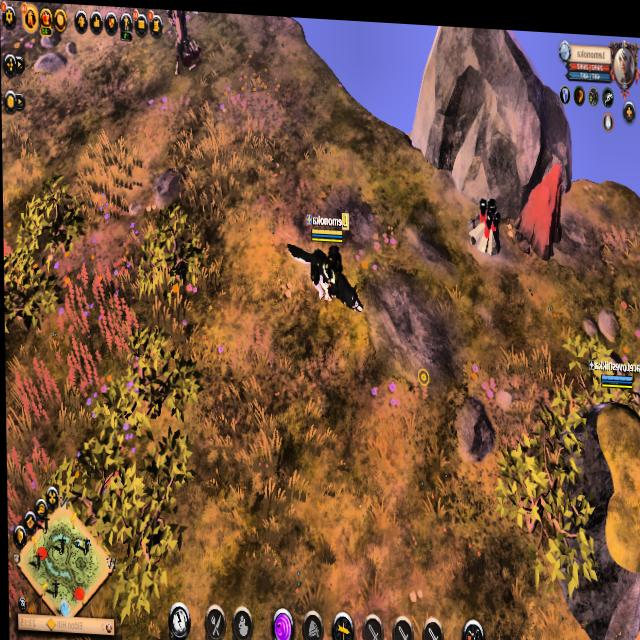ore tier 5: (465, 188, 503, 251)
rock tier 5: (511, 152, 563, 255)
